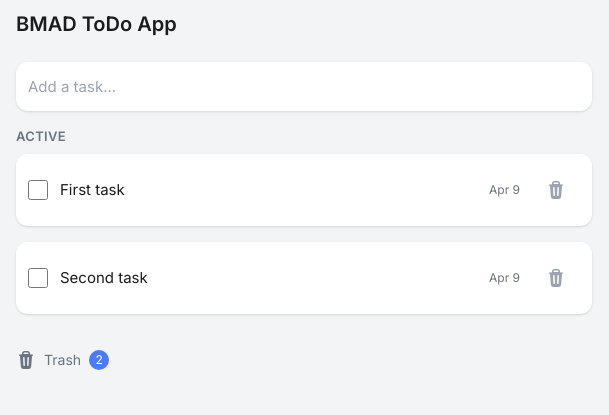
Test: App › toggles a task from active to completed when checkbox is clicked
Check: the text "First task" is shown, box [60, 180, 125, 199]
Click the checkbox named "Mark \"First task\" as complete" at (38, 190), box [28, 180, 48, 200]
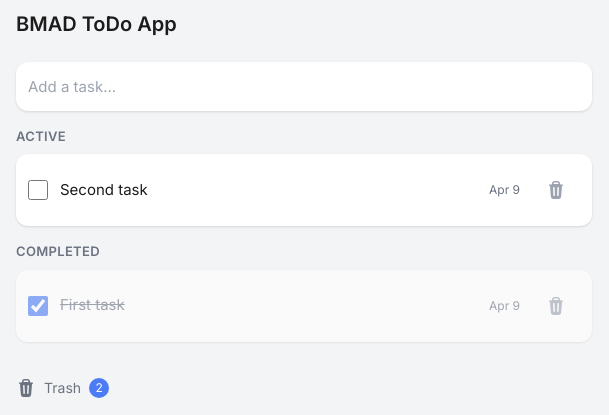
Check: the heading "Completed" is shown, box [16, 243, 100, 259]
